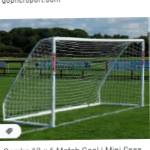goals: (1, 34, 147, 127)
